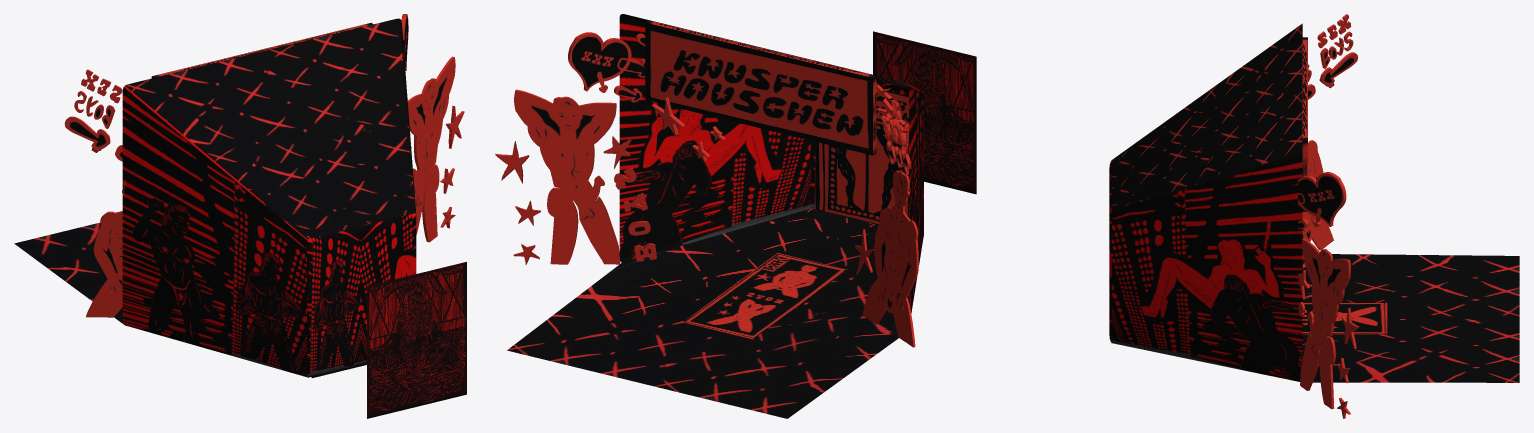
File: knusperhaeuschen-Knusperhauschen2.glb
3 views of the same model, side by side, from view 1: azimuth 30°, elevation 25°; view 2: azimuth 150°, elevation 25°; view 3: azimuth 270°, elevation 25° (orthographic). The views are drawn at different scales.
Parts seen in each view (by area): view 1: trichter, Tuer.1, Extrude, Extrude.1, Extrude.3, Cube.2; view 2: trichter, Cube.2, Extrude, Tuer.1, Plane.2, Tuer, Extrude.1, Extrude.2, Extrude.3, sterne.3; view 3: trichter, Extrude, Extrude.2, Plane.2, Extrude.3, Extrude.1, Cube.2.
Part boxes in pixels (box(x1,y1,x2,y2)): trichter: box(14, 18, 416, 377); Tuer.1: box(367, 262, 466, 418); Extrude: box(407, 56, 464, 242); Extrude.1: box(86, 180, 125, 317); Extrude.3: box(64, 69, 122, 161); Cube.2: box(151, 23, 372, 78); trichter: box(507, 14, 923, 418); Cube.2: box(645, 20, 876, 155); Extrude: box(495, 89, 656, 264); Tuer.1: box(873, 31, 976, 194); Plane.2: box(683, 253, 847, 339); Tuer: box(815, 91, 908, 224); Extrude.1: box(854, 170, 918, 347); Extrude.2: box(568, 32, 645, 102); Extrude.3: box(881, 99, 911, 174); sterne.3: box(652, 97, 684, 135); trichter: box(1109, 23, 1519, 382); Extrude: box(1298, 238, 1359, 418); Extrude.2: box(1298, 172, 1346, 229); Plane.2: box(1302, 302, 1387, 334); Extrude.3: box(1308, 14, 1357, 99); Extrude.1: box(1302, 140, 1333, 261); Cube.2: box(1302, 37, 1307, 211).
Bounding box in the file's own units: 2.3 × 1.35 × 2.66.
3 materials, 3 textured.
